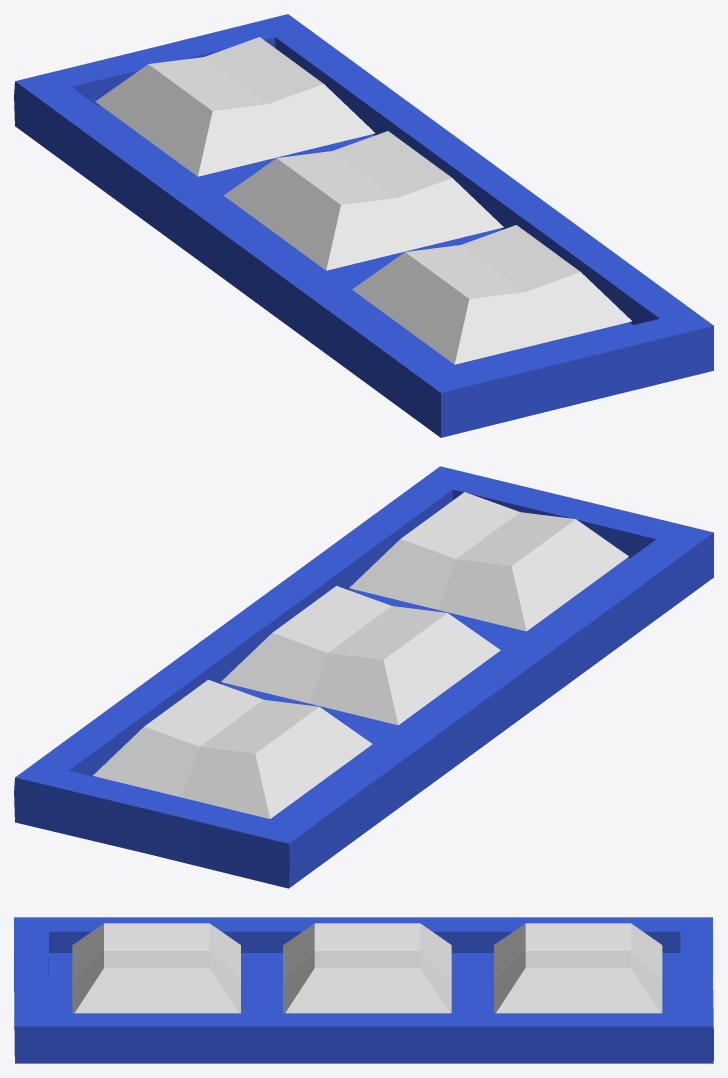
The model's file is keyboard.fbx.
3 views of the same model, one above another, from view 1: azimuth 30°, elevation 25°; view 2: azimuth 150°, elevation 25°; view 3: azimuth 270°, elevation 25° (orthographic). The views are drawn at different scales.
Visible parts, largest first — view 1: Sword, key.001, key.002, key; view 2: Sword, key.002, key.001, key; view 3: Sword, key.002, key, key.001.
Part boxes in pixels (x1,y1,x2,y2): Sword: [14, 14, 713, 437]; key.001: [224, 131, 503, 270]; key.002: [352, 225, 631, 364]; key: [95, 37, 375, 176]; Sword: [14, 466, 713, 888]; key.002: [349, 492, 628, 631]; key.001: [221, 586, 500, 725]; key: [93, 679, 372, 818]; Sword: [14, 917, 713, 1063]; key.002: [72, 923, 240, 1013]; key: [494, 923, 662, 1013]; key.001: [283, 923, 451, 1013].
Bounding box in the file's own units: 99.93 × 27.14 × 268.
